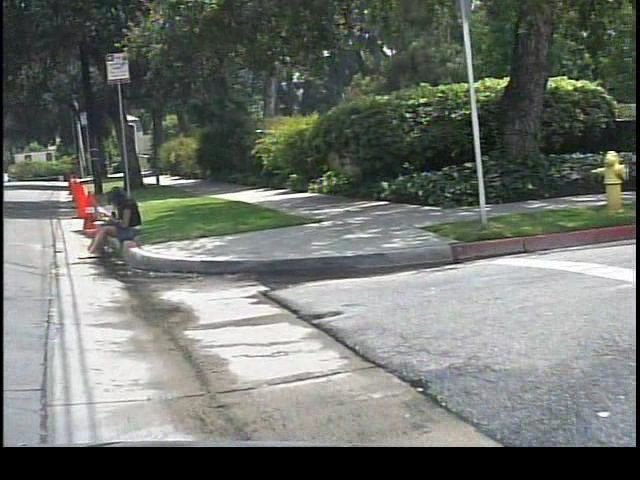person: (76, 184, 149, 261)
